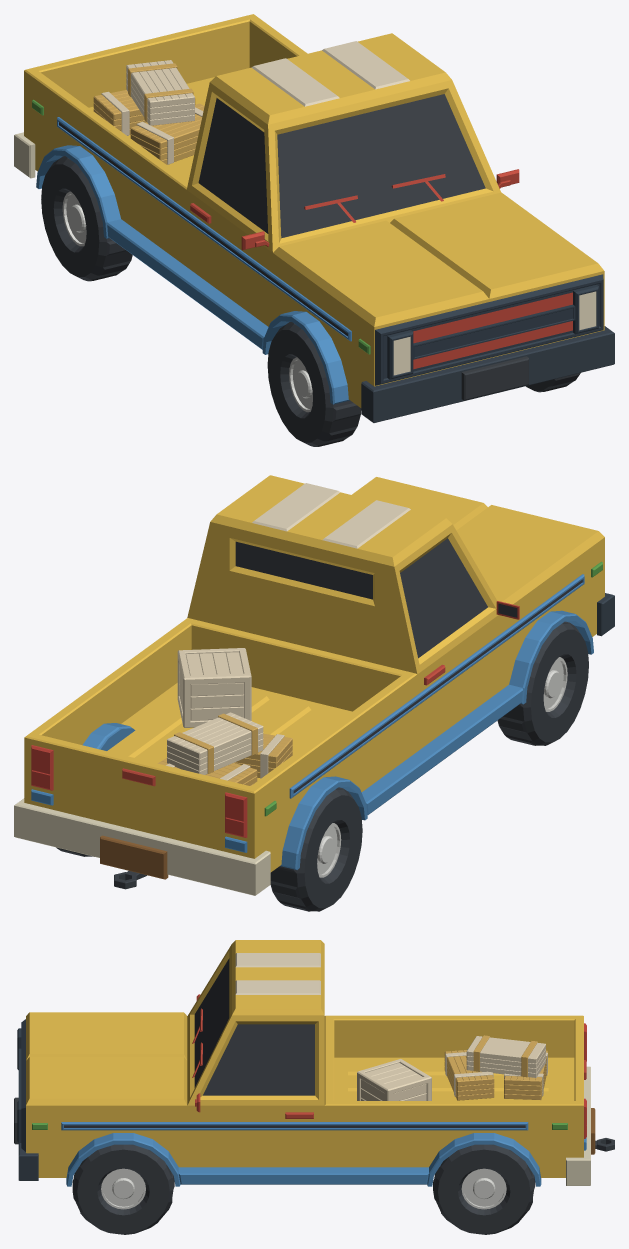
Rendered from car_a02.gltf.
3 renders of one model, top to bottom at view 1: azimuth 30°, elevation 25°; view 2: azimuth 150°, elevation 25°; view 3: azimuth 270°, elevation 25°, orthographic. The views are drawn at different scales.
Visible parts, largest first — view 1: Box2150, car_a02_001, Box2154, Box2153, Box2254, Box2168, Box2162; view 2: Box2150, car_a02_001, Box2154, Box2254, Box2171, Box2168; view 3: Box2150, car_a02_001, Box2154, Box2254, Box2153, Box2168.
Part boxes in pixels (x1=…): Box2150: x1=24, y1=14, x2=604, y2=407; car_a02_001: x1=41, y1=41, x2=596, y2=446; Box2154: x1=14, y1=117, x2=614, y2=422; Box2153: x1=375, y1=274, x2=603, y2=385; Box2254: x1=93, y1=60, x2=204, y2=164; Box2168: x1=461, y1=356, x2=528, y2=400; Box2162: x1=241, y1=169, x2=519, y2=250; Box2150: x1=24, y1=475, x2=604, y2=872; car_a02_001: x1=56, y1=483, x2=588, y2=911; Box2154: x1=14, y1=574, x2=614, y2=895; Box2254: x1=157, y1=648, x2=292, y2=786; Box2171: x1=31, y1=745, x2=247, y2=852; Box2168: x1=100, y1=835, x2=168, y2=879; Box2150: x1=26, y1=940, x2=583, y2=1177; car_a02_001: x1=72, y1=953, x2=535, y2=1234; Box2154: x1=18, y1=1049, x2=614, y2=1186; Box2254: x1=357, y1=1035, x2=547, y2=1100; Box2153: x1=17, y1=1019, x2=25, y2=1151; Box2168: x1=14, y1=1097, x2=595, y2=1154.
Bounding box in the file's own units: 2.41 × 2.23 × 5.68.
Materials: 1 (1 with a texture image).
